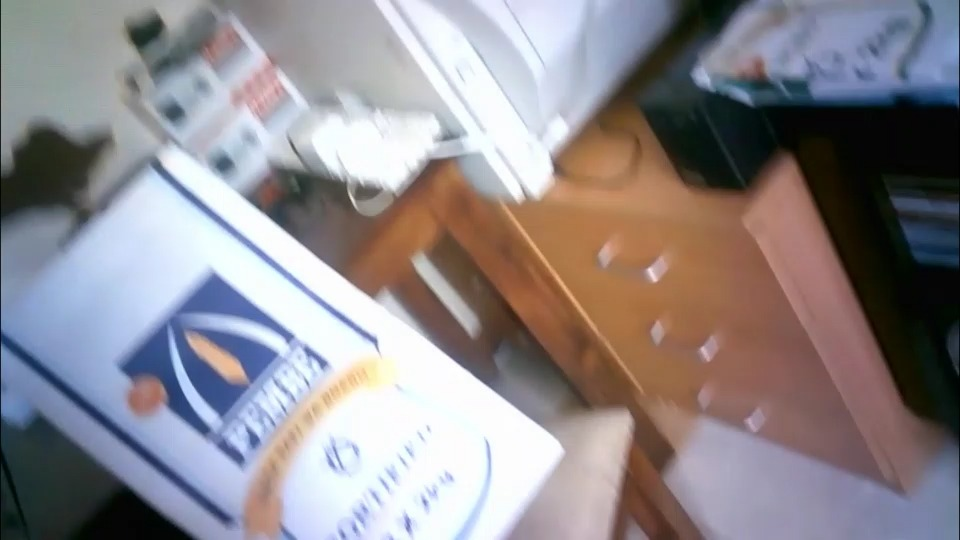wheat_flour_blue_label: (7, 145, 559, 540)
